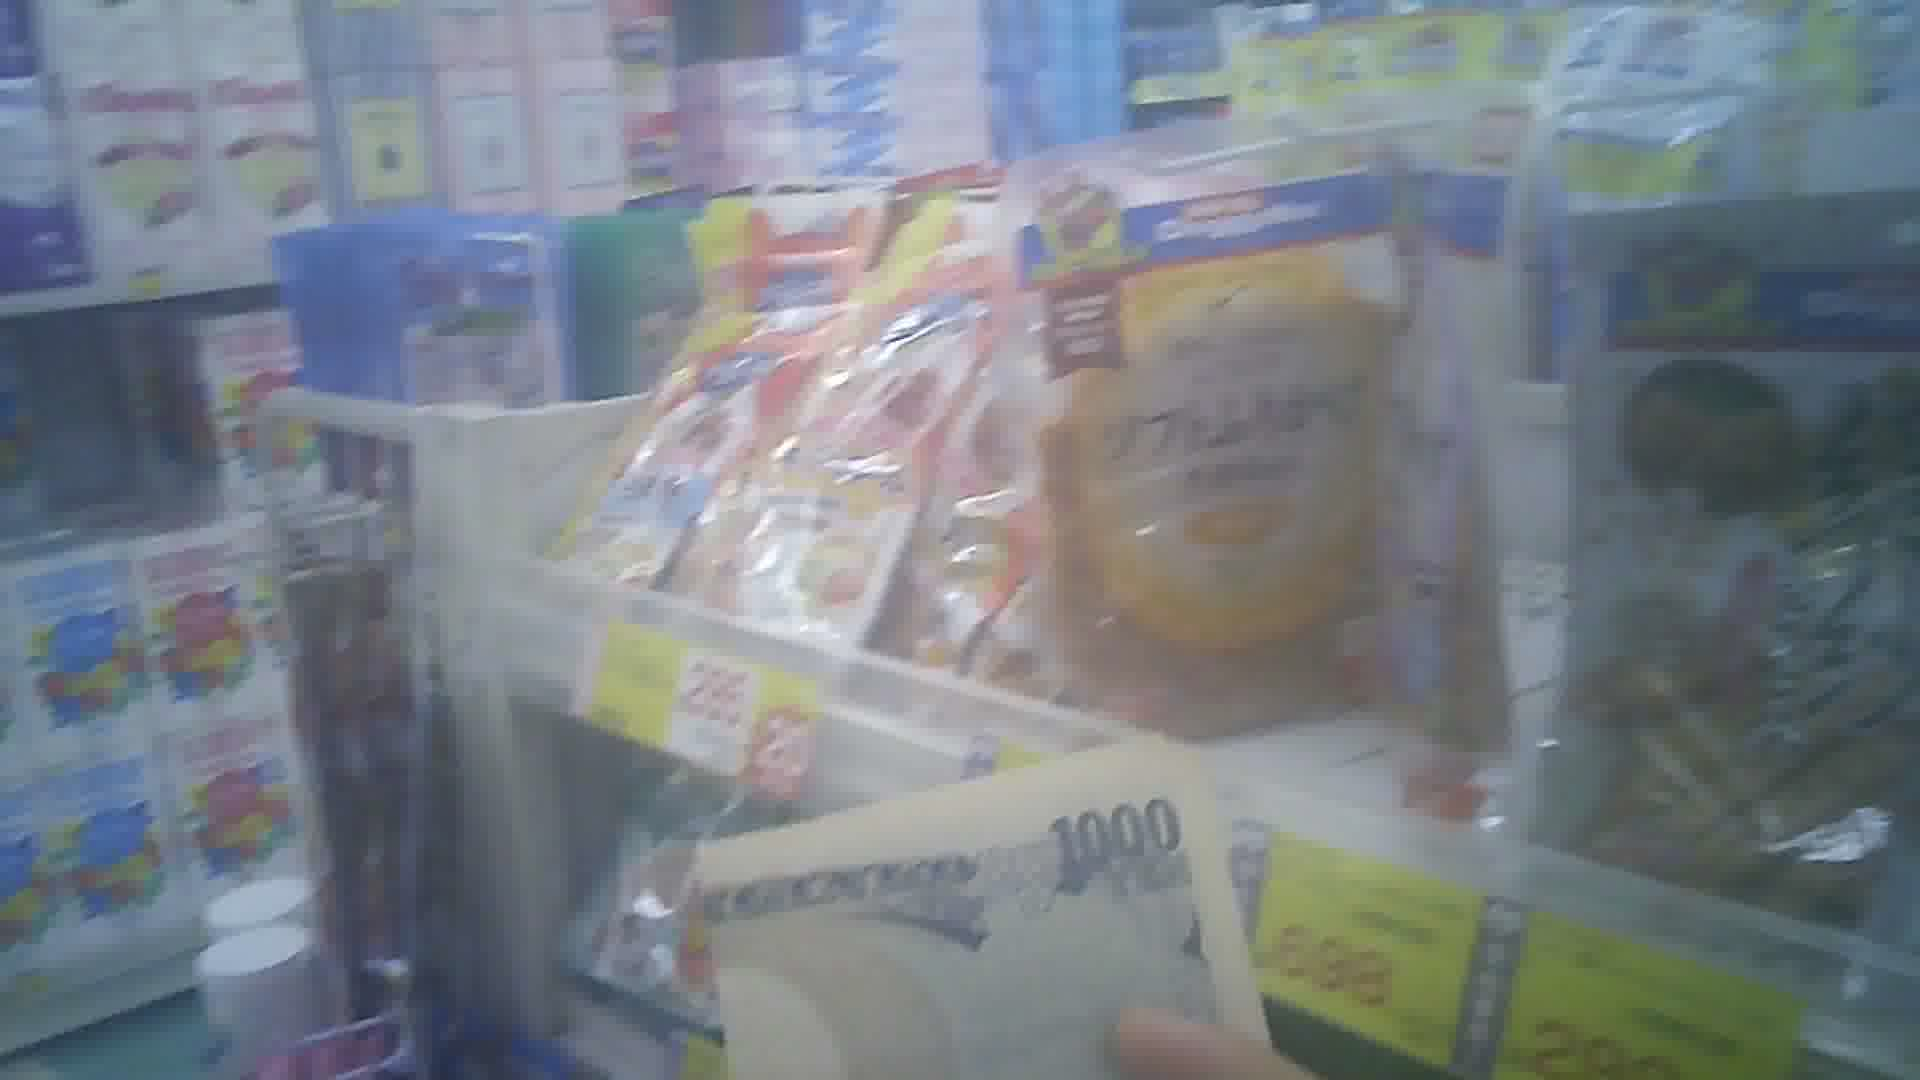1,000 Yen: (708, 742, 1278, 1077)
